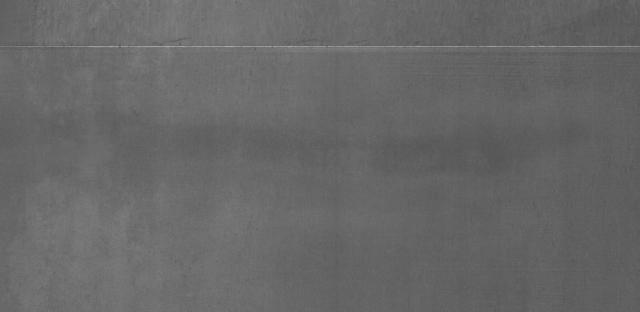welding_line: (1, 35, 640, 60)
